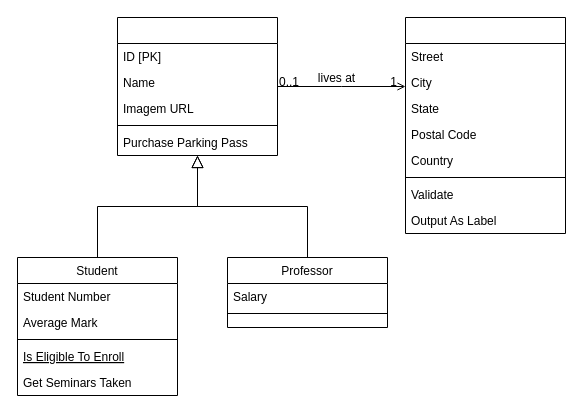
This 583x416 diagram has some shape labels left out. The box of each missing label's shape, as (x1, y1, x2, y2) in pixels:
Address: (404, 16, 566, 234)
Restaurant: (116, 16, 278, 156)
